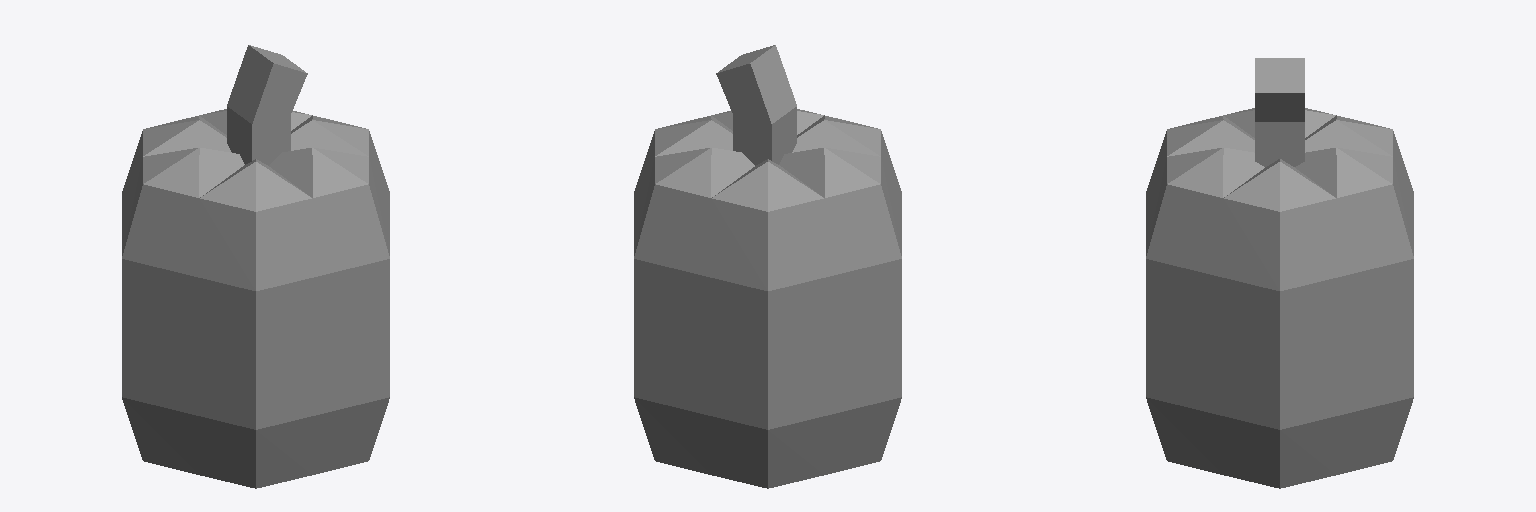
Rendered from pumpkin_02_01_c.obj.
3 views of the same model, side by side, from view 1: azimuth 30°, elevation 25°; view 2: azimuth 150°, elevation 25°; view 3: azimuth 270°, elevation 25° (orthographic).
Parts seen in each view (by area): view 1: pumpkin_02_01_c; view 2: pumpkin_02_01_c; view 3: pumpkin_02_01_c.
Part boxes in pixels (bbox=[...]): pumpkin_02_01_c: bbox=[122, 45, 389, 488]; pumpkin_02_01_c: bbox=[634, 45, 901, 488]; pumpkin_02_01_c: bbox=[1146, 58, 1413, 488].
Size of the model in its own units: 1.01 by 1.44 by 0.8751.